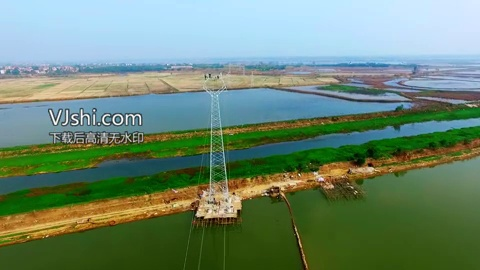tower_body: (199, 67, 233, 208)
tower_foot: (208, 181, 231, 204)
tower_head: (201, 71, 229, 96)
